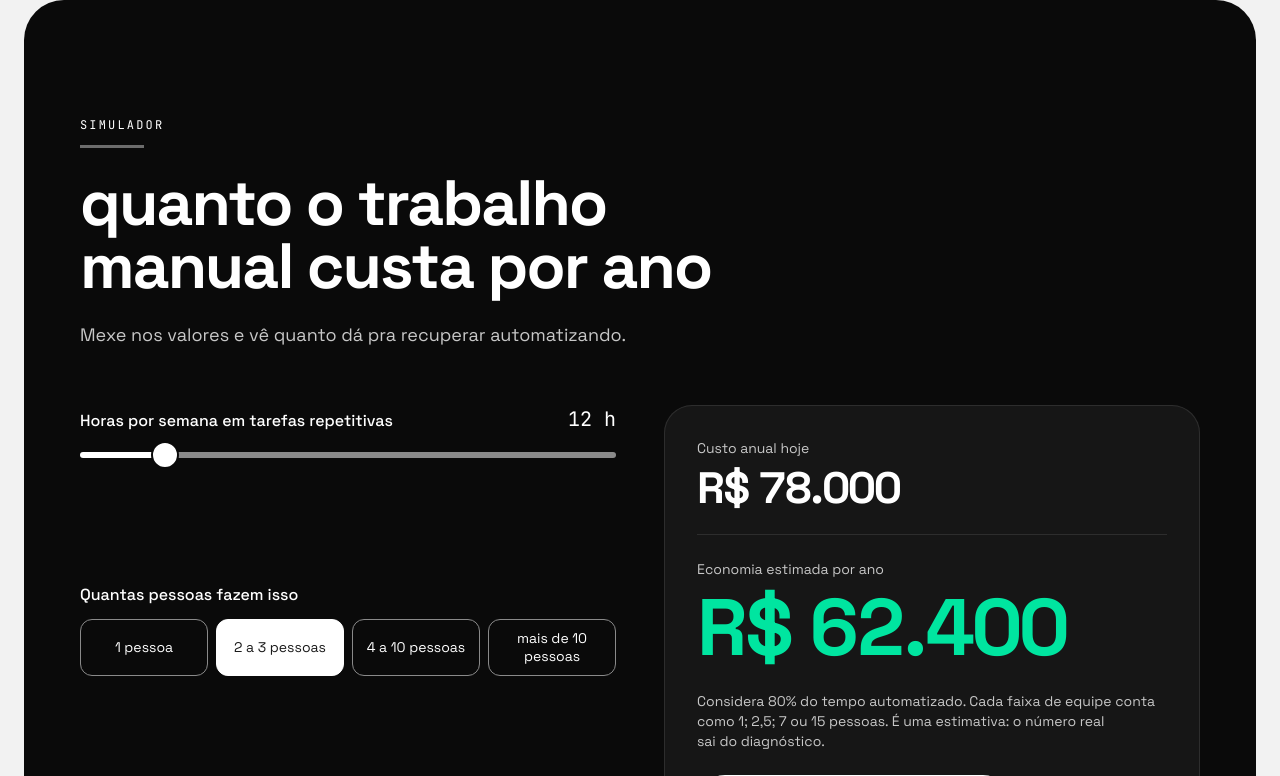
Test case: RoiSimulator controls › reads the value in pt-BR to a screen reader, with the singular for one hour
The width and height of the screenshot is (1280, 776).
Set the slider labelled "Horas por semana em tarefas repetitivas" to "40" at x=345, y=455, box [80, 433, 616, 477]
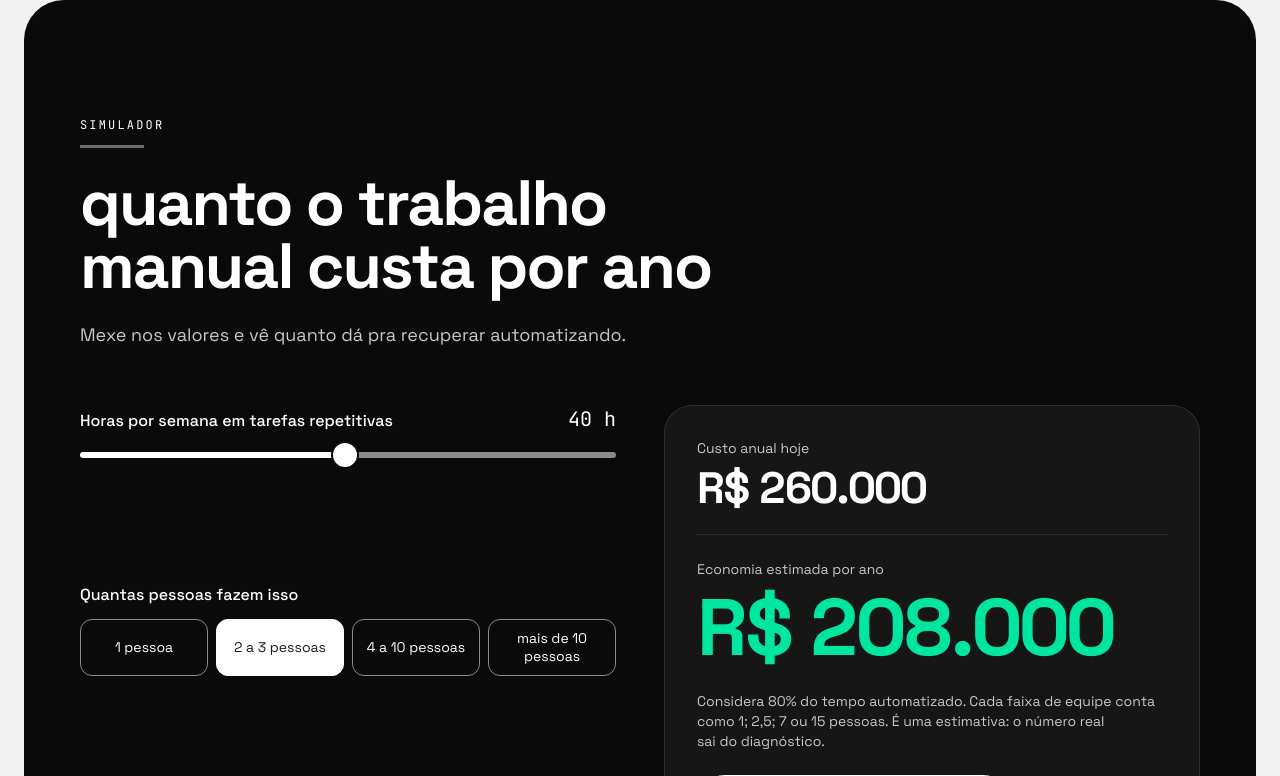
Expected: the slider labelled "Horas por semana em tarefas repetitivas" has attribute aria-valuetext="40 horas por semana"
Set the slider labelled "Horas por semana em tarefas repetitivas" to "1" at x=88, y=455, box [80, 433, 616, 477]
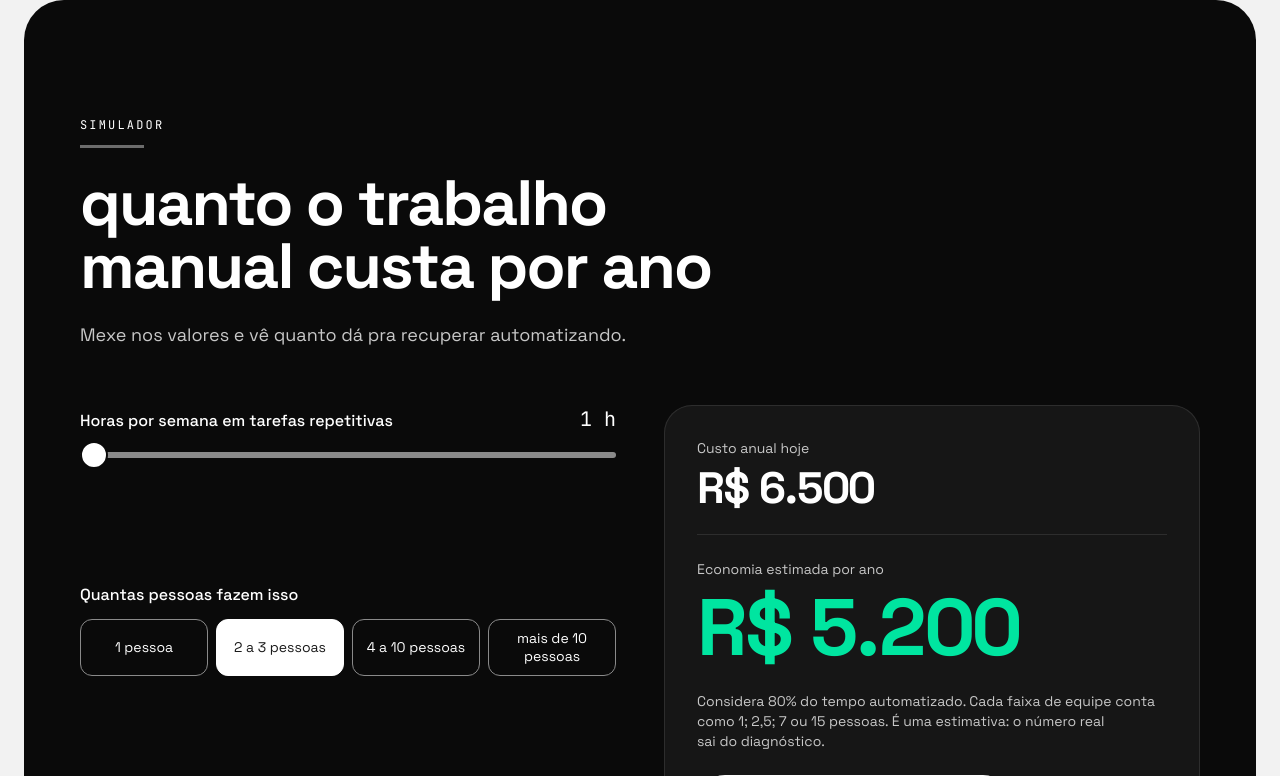
Expected: the slider labelled "Horas por semana em tarefas repetitivas" has attribute aria-valuetext="1 hora por semana", [80, 433, 616, 477]
